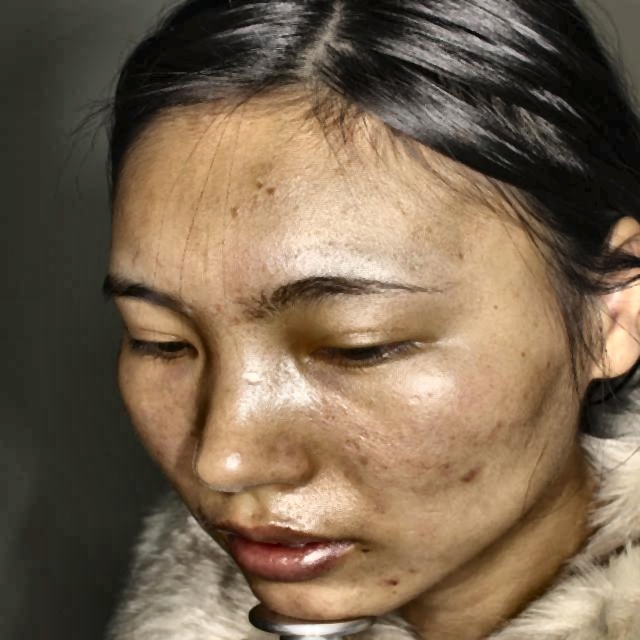comedone: (456, 455, 490, 491)
